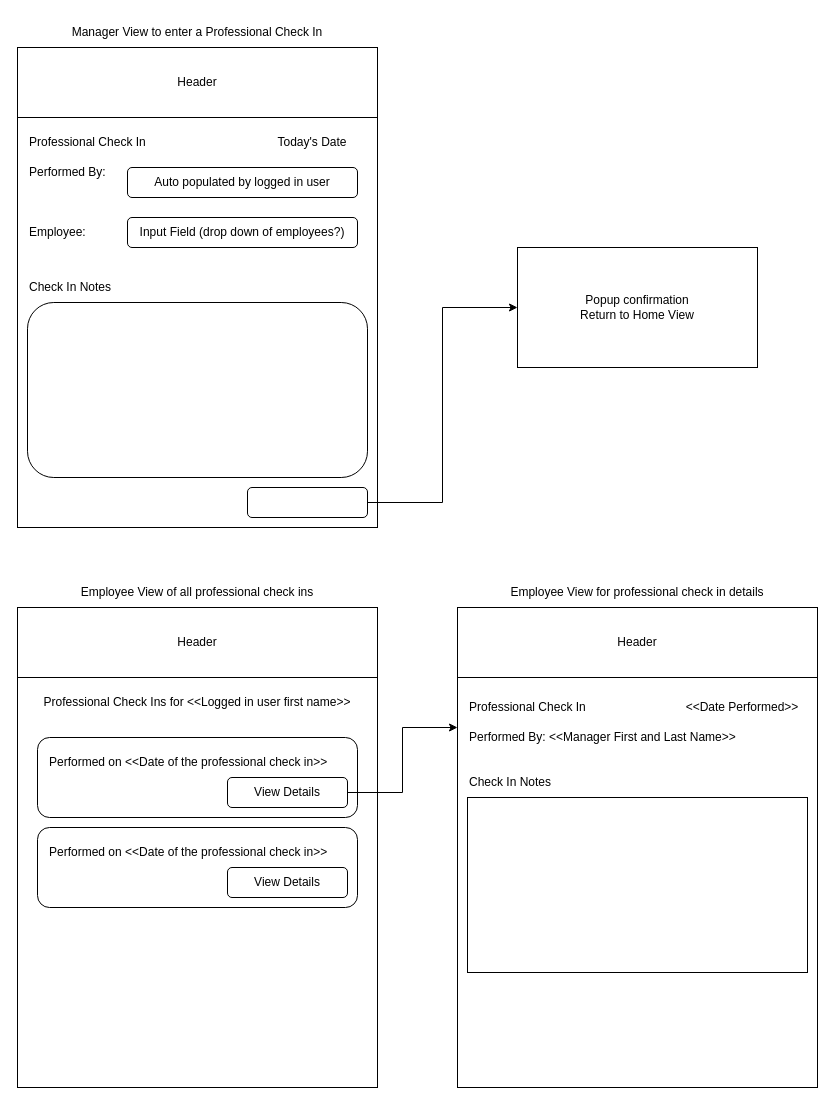
Some shapes in this 835 by 1105 pixel diagram are drawn without their labels. The centre of each missing label's shape, as x and y in pixels:
<<Notes from the professional check in<<: (x=637, y=884)
Submit: (x=307, y=502)
Text Field to enter notes: (x=197, y=390)
